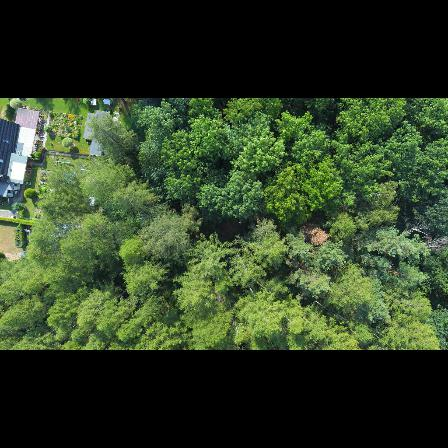Dead: (400, 217, 433, 238), (419, 233, 448, 255)
